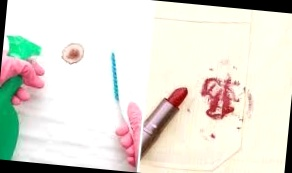blood: (59, 39, 85, 66)
lipstick: (184, 70, 245, 144), (238, 86, 261, 123), (205, 58, 243, 77)
